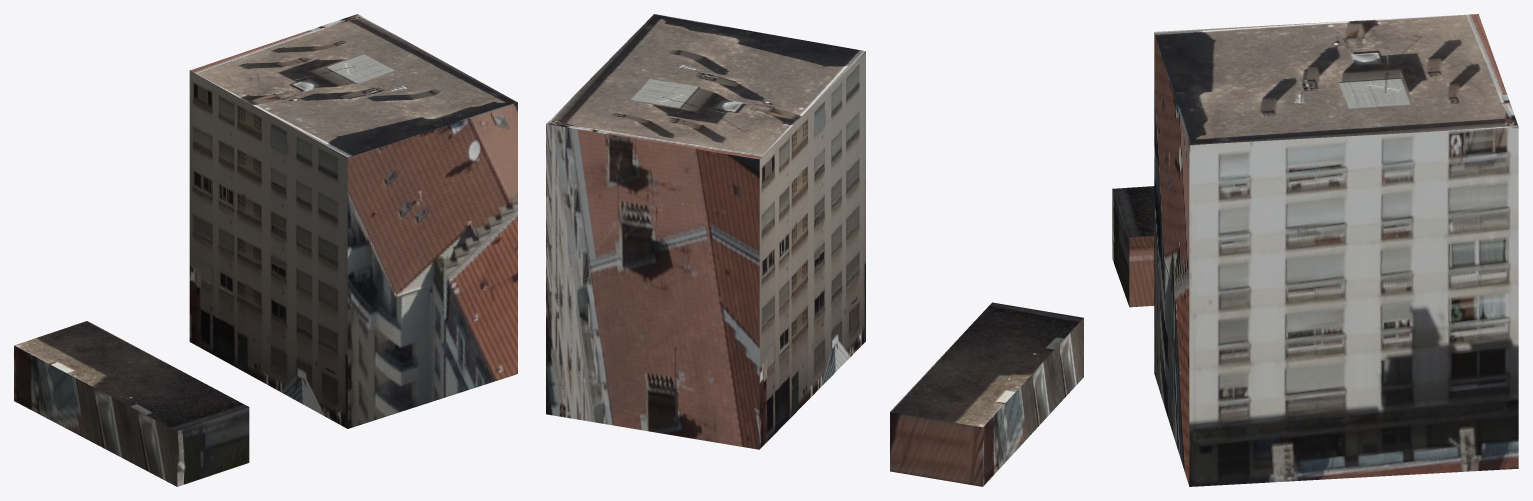
The picture shows the model from 3 angles, left to right: view 1: azimuth 30°, elevation 25°; view 2: azimuth 150°, elevation 25°; view 3: azimuth 270°, elevation 25°; orthographic projection. The views are drawn at different scales.
Parts seen in each view (by area): view 1: Z_UP; view 2: Z_UP; view 3: Z_UP.
Boxes of the visible parts, x1,y1,x2,y2 form: Z_UP: [14, 14, 517, 486]; Z_UP: [546, 14, 1083, 486]; Z_UP: [1112, 14, 1518, 486].
Size of the model in its own units: 28.64 by 18.32 by 19.73.
2 materials, 1 textured.
